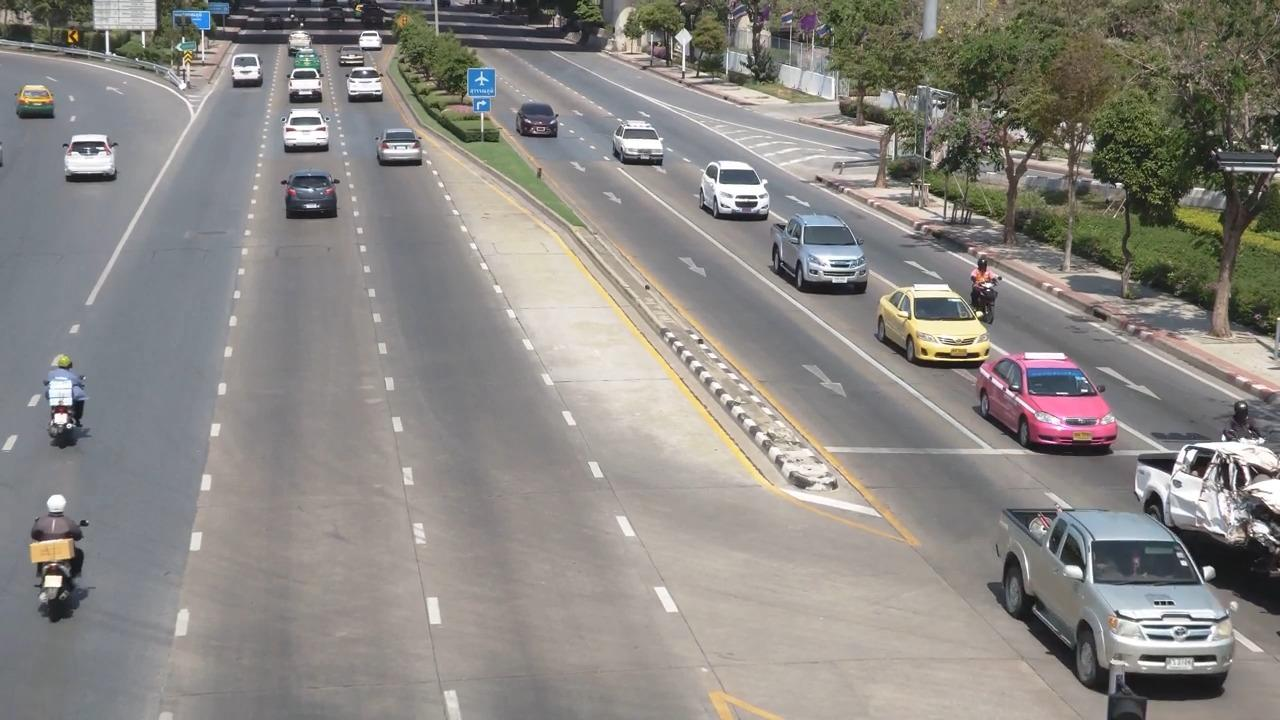CAR: (969, 489, 1257, 708), (972, 335, 1123, 454), (873, 276, 1001, 372), (768, 208, 878, 304), (687, 148, 777, 223), (271, 161, 353, 228), (57, 122, 129, 193), (607, 113, 673, 174), (270, 109, 344, 158), (369, 119, 436, 173), (510, 91, 570, 149), (12, 73, 68, 133), (342, 63, 398, 111), (221, 52, 272, 104), (282, 72, 332, 116), (346, 62, 385, 97), (350, 27, 384, 57), (337, 41, 371, 70), (282, 30, 313, 58), (289, 50, 323, 75)
MOTOR: (17, 483, 107, 622), (35, 339, 96, 463), (1209, 383, 1271, 474), (965, 253, 1004, 322)
